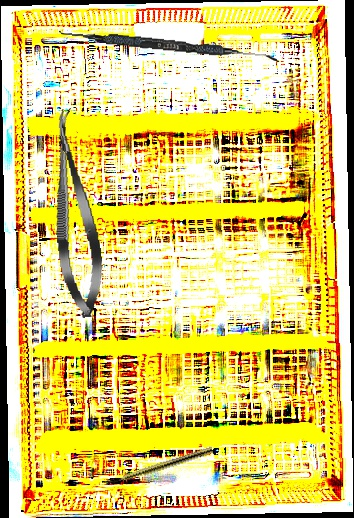Handpiece: (104, 444, 214, 489)
Micro Scissor: (41, 106, 109, 320)
Spatula Surgical: (57, 29, 281, 62)
